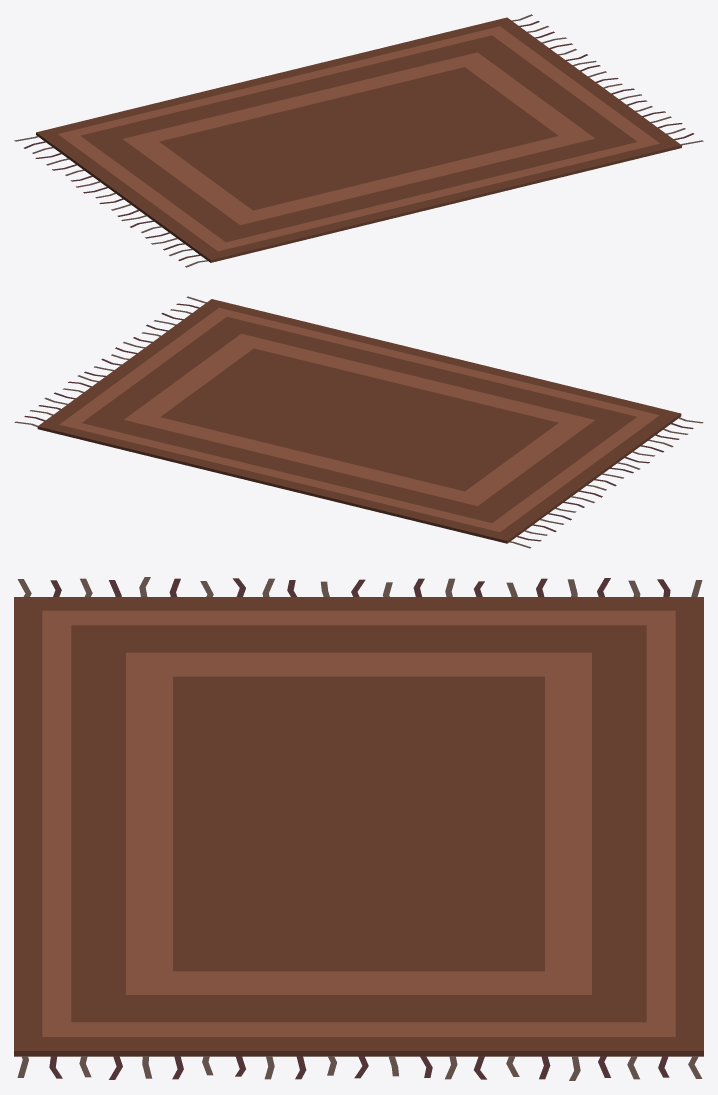
File: Carpet_03.glb
3 views of the same model, one above another, from view 1: azimuth 30°, elevation 25°; view 2: azimuth 150°, elevation 25°; view 3: azimuth 270°, elevation 25° (orthographic). The views are drawn at different scales.
Visible parts, largest first — view 1: Carpet_03; view 2: Carpet_03; view 3: Carpet_03.
Part boxes in pixels (x1,y1,x2,y2): Carpet_03: [14, 14, 703, 267]; Carpet_03: [14, 296, 703, 548]; Carpet_03: [14, 577, 703, 1080].
Size of the model in its own units: 3.45 by 0.0176 by 2.
Materials: 1 (1 with a texture image).
